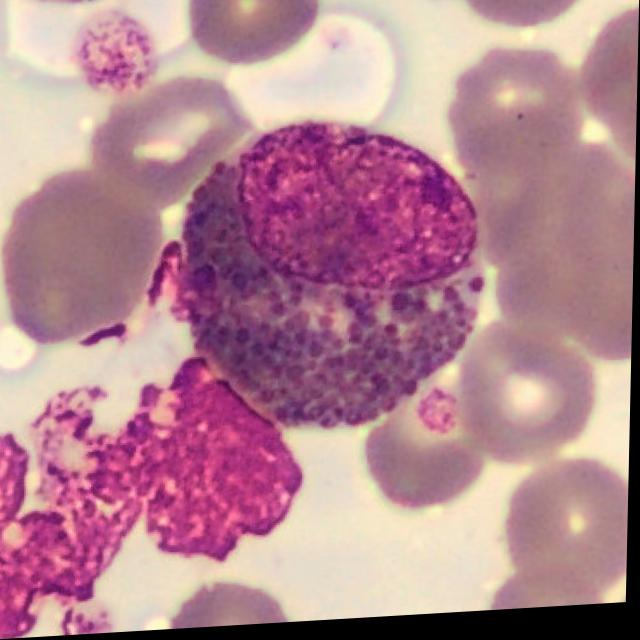Promielocito: (179, 123, 483, 431)
